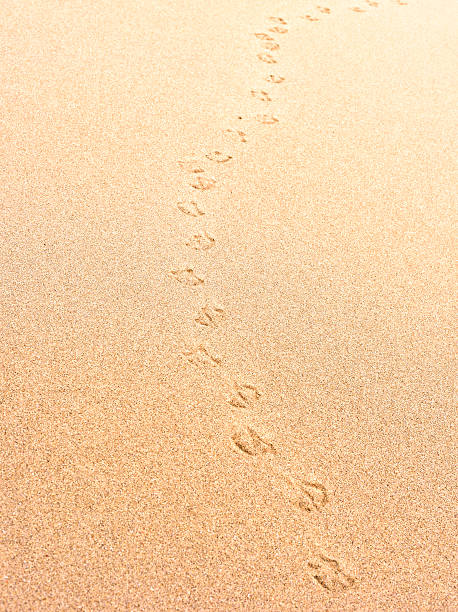animal_footprint: (307, 553, 355, 591), (282, 472, 328, 511), (231, 426, 276, 455), (181, 345, 220, 366), (229, 383, 260, 408), (195, 304, 224, 327), (170, 268, 203, 286), (186, 232, 214, 250), (177, 200, 204, 216), (178, 158, 205, 173), (191, 175, 215, 189), (224, 128, 246, 142), (206, 150, 231, 162), (250, 89, 271, 101), (256, 114, 278, 124), (257, 53, 276, 63), (265, 74, 284, 83), (261, 41, 279, 50), (254, 32, 273, 40), (268, 16, 286, 24), (268, 26, 287, 33), (301, 14, 318, 21), (316, 5, 330, 13), (365, 0, 378, 7), (350, 6, 365, 12), (395, 0, 407, 5)
